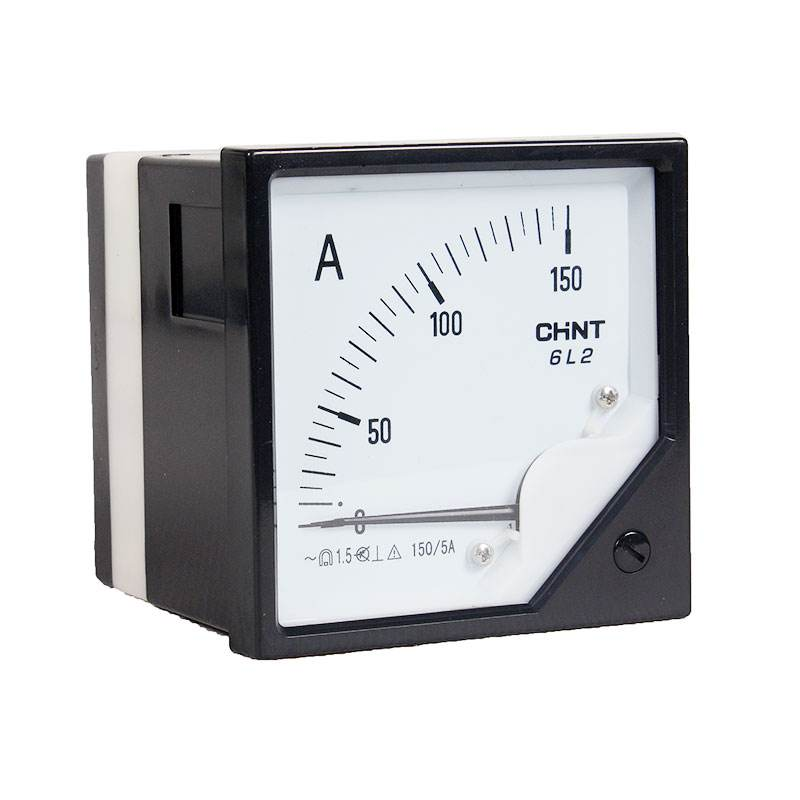pointer: (267, 165, 660, 618)
